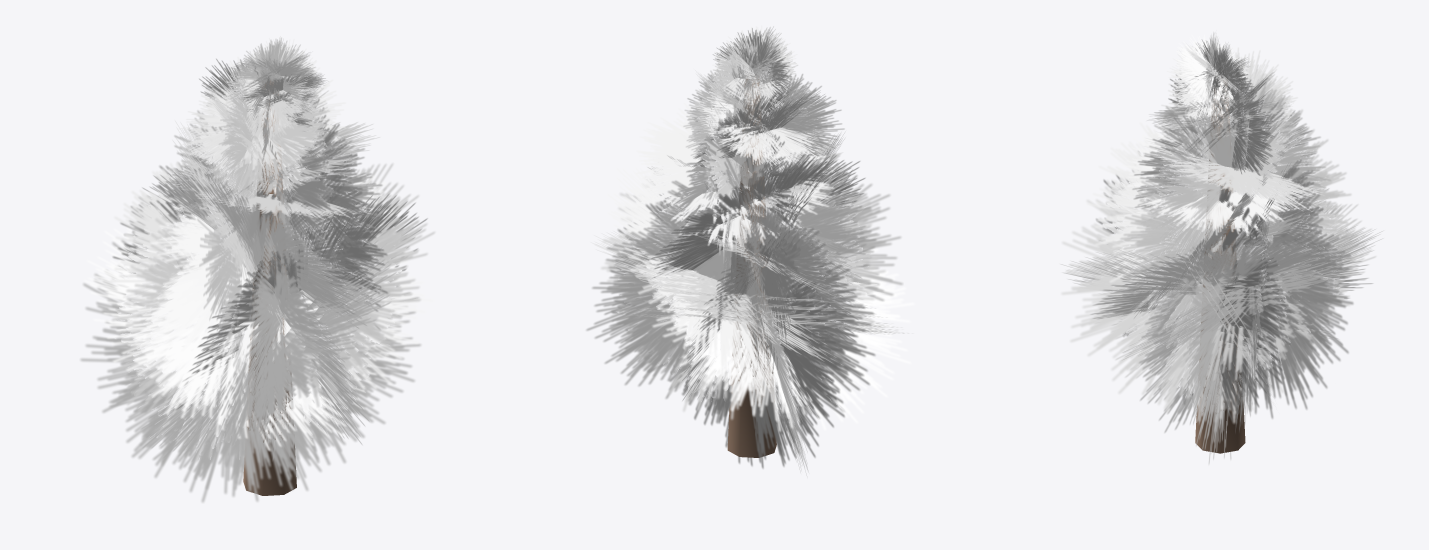
File: pine_stylized_1.glb
3 views of the same model, side by side, from view 1: azimuth 30°, elevation 25°; view 2: azimuth 150°, elevation 25°; view 3: azimuth 270°, elevation 25° (orthographic). The views are drawn at different scales.
Parts seen in each view (by area): view 1: Plane.002, Plane, Plane.001, Plane.003, Cone; view 2: Plane.002, Plane, Plane.001, Plane.003, Cone; view 3: Plane.002, Plane, Plane.001, Plane.003, Cone.
Boxes of the visible parts, x1,y1,x2,y2 form: Plane.002: [80, 37, 435, 502]; Plane: [91, 42, 425, 488]; Plane.001: [109, 76, 413, 463]; Plane.003: [117, 84, 404, 442]; Cone: [243, 80, 296, 495]; Plane.002: [586, 25, 914, 476]; Plane: [594, 31, 903, 464]; Plane.001: [604, 59, 888, 437]; Plane.003: [612, 67, 878, 418]; Cone: [727, 79, 776, 457]; Plane.002: [1060, 32, 1383, 464]; Plane: [1071, 38, 1375, 453]; Plane.001: [1085, 63, 1365, 430]; Plane.003: [1096, 75, 1357, 414]; Cone: [1195, 81, 1245, 453].
Bounding box in the file's own units: 3.4 × 4 × 3.25.
2 materials, 1 textured.
